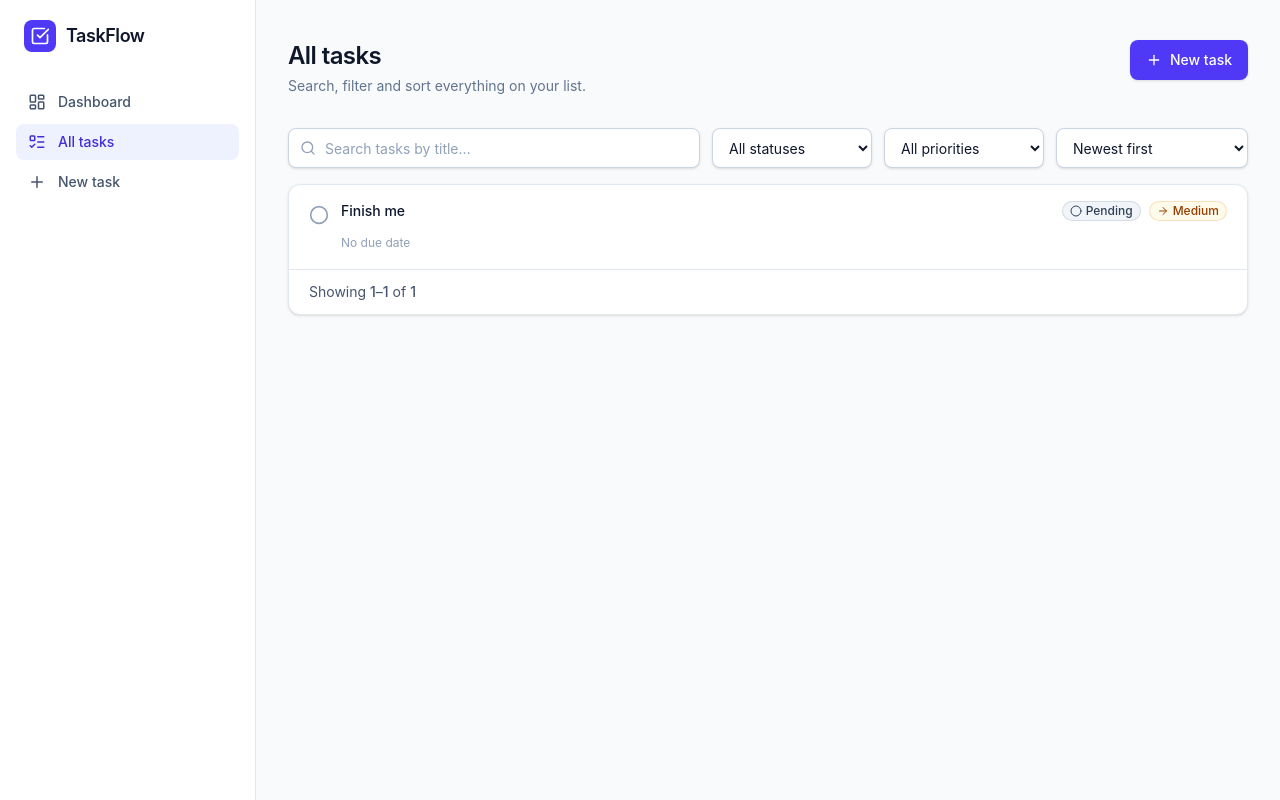
Test: All tasks › marks a task as completed from the list
The width and height of the screenshot is (1280, 800).
Click the button named "Mark “Finish me” as completed": (319, 215) [305,201,333,229]
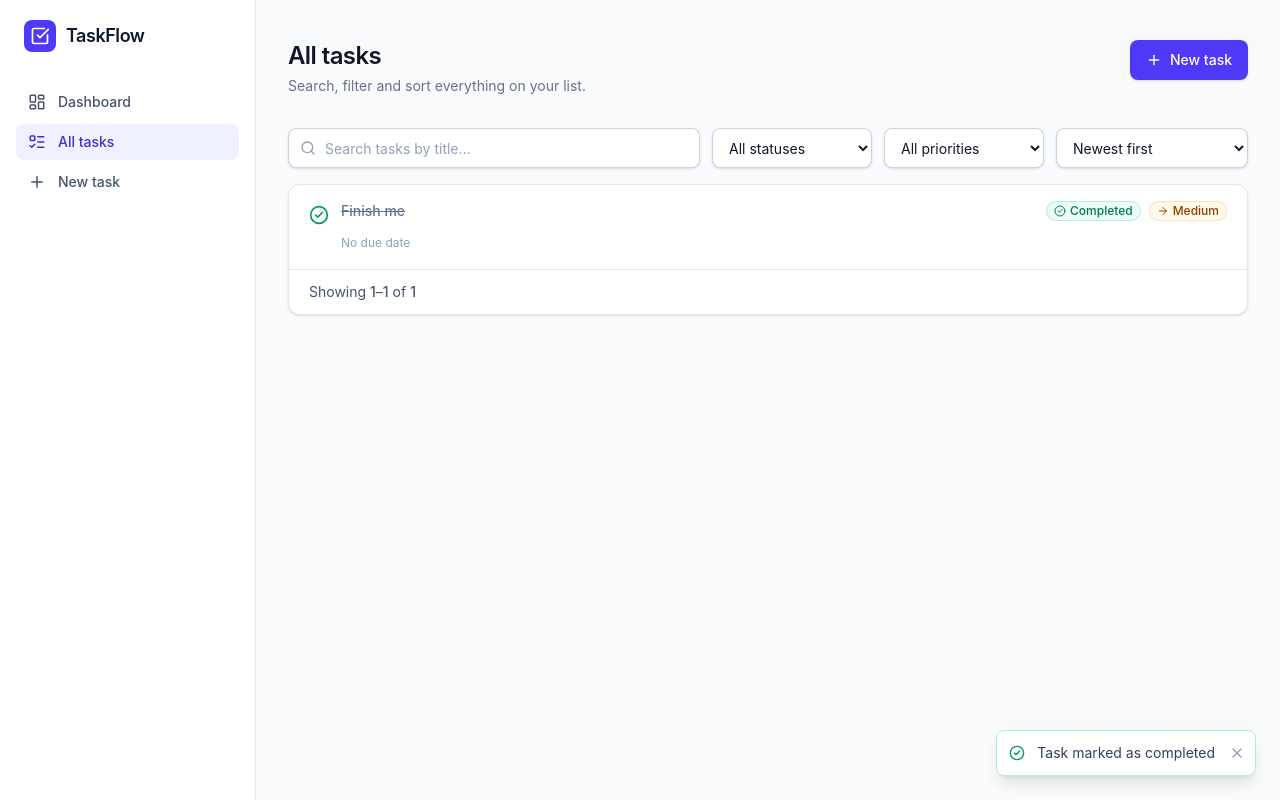
Expected: the button named "Mark “Finish me” as pending" is shown, [305,201,333,229]
Expected: the text "Task marked as completed" is shown, [1037,743,1215,763]
